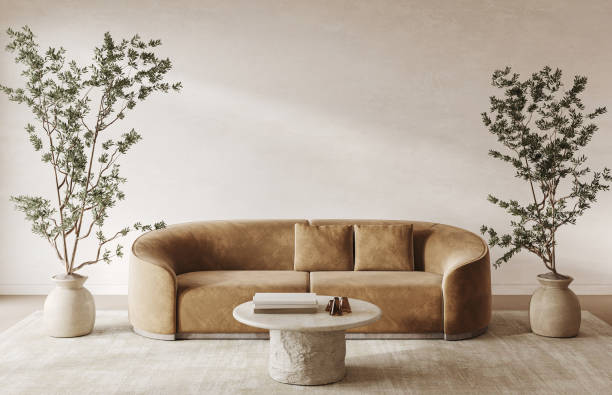large plant: (2, 22, 184, 338), (484, 60, 612, 340)
sofa: (124, 216, 494, 341)
table: (230, 289, 382, 385)
